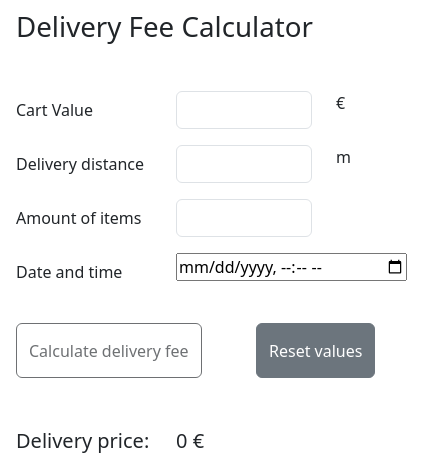
Test case: App Component › resets values correctly
Type "100" into the number field with test id "cartValue" at (244, 110), box [176, 91, 312, 129]
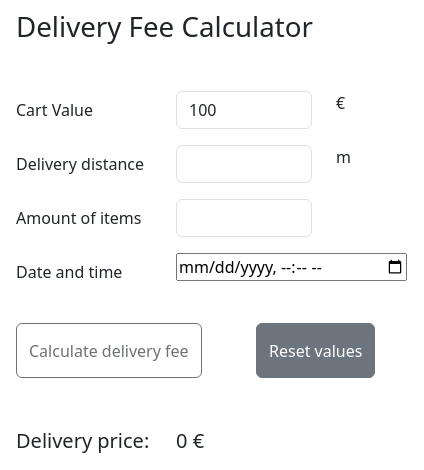
Type "500" into the number field with test id "deliveryDistance" at (244, 164), box [176, 145, 312, 183]
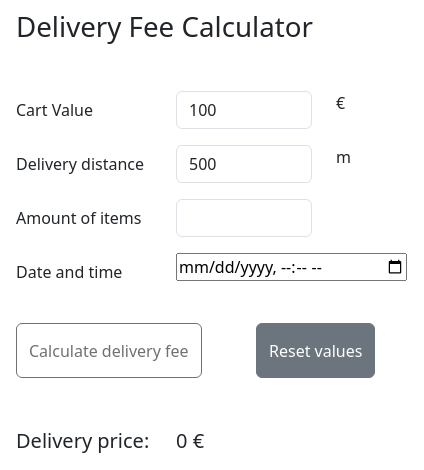
Type "3" into the number field with test id "numberOfItems" at (244, 218), box [176, 199, 312, 237]
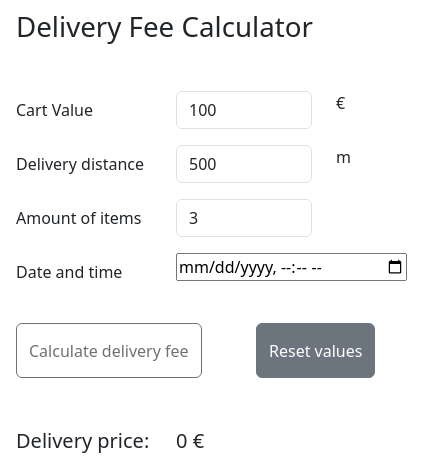
Type "2024-01-30T20:17:46" into the field with test id "orderTime" at (292, 267), box [176, 253, 407, 281]
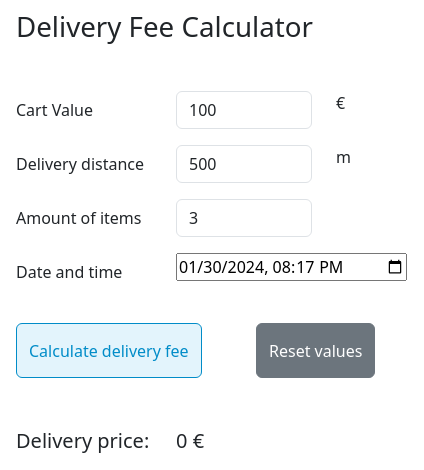
Click the button "Reset values" at (316, 351), box [256, 323, 375, 378]
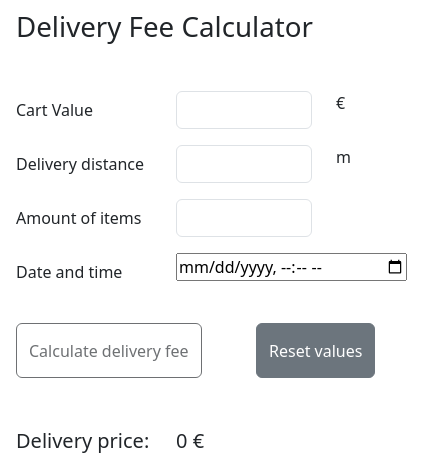
Check: the number field with test id "cartValue" is not empty, box [176, 91, 312, 129]
Check: the number field with test id "deliveryDistance" is not empty, box [176, 145, 312, 183]
Check: the number field with test id "numberOfItems" is not empty, box [176, 199, 312, 237]
